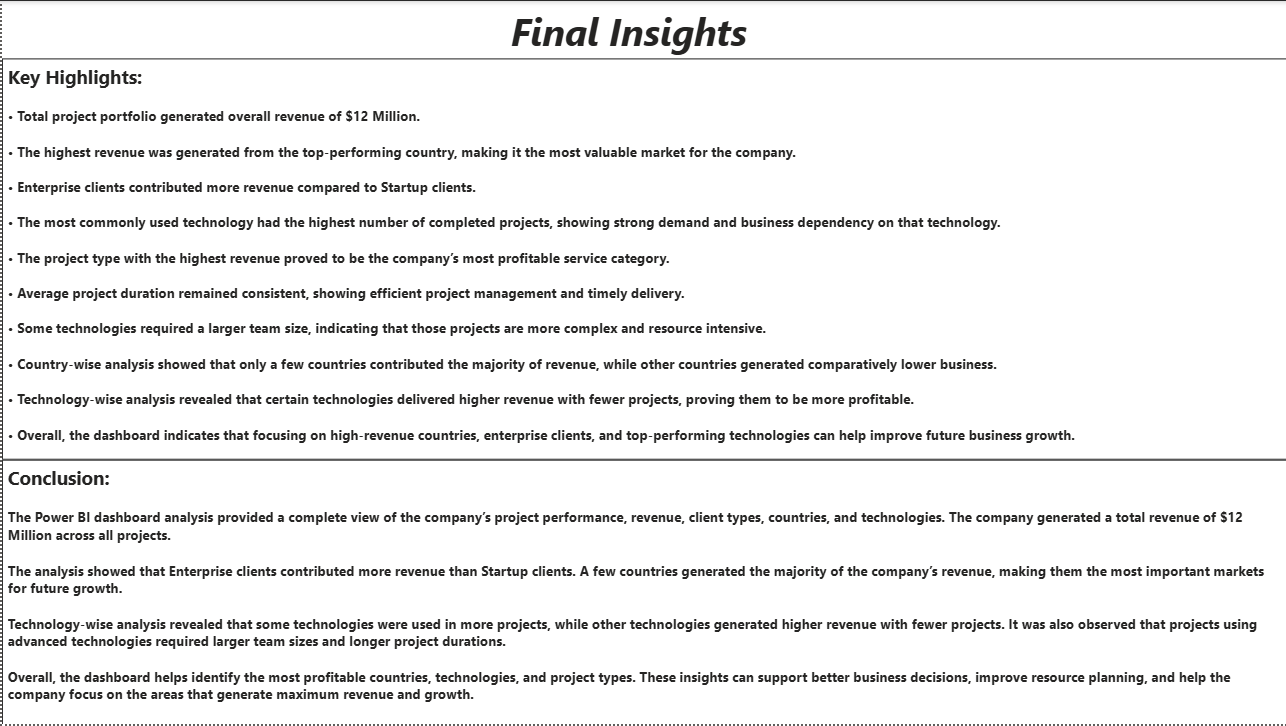

The dashboard page shown, as its layout file describes it:
{"tool":"powerbi","page":{"name":"Final Insights","canvas":[1280,720],"ordinal":4},"visuals":[{"type":"textbox","box":[501.3,0,279.9,75.9],"z":0},{"type":"textbox","box":[0,57.2,1280,399.3],"z":1},{"type":"textbox","box":[0,456.5,1280,263.7],"z":2}]}

Visuals, with their boxes in screenshot pixels (x1, y1, x2, y2), scaled from the page's 1280x720 canvas onto the 1286x726 screenshot:
textbox: 504 0 785 77
textbox: 0 58 1285 460
textbox: 0 460 1285 725
